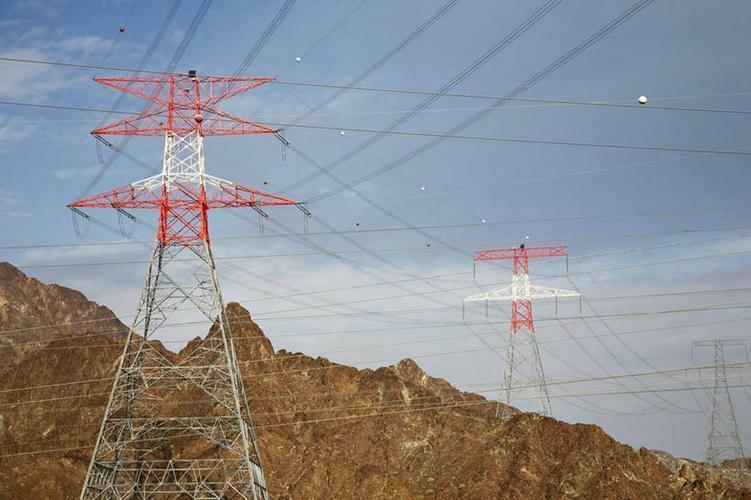power_tower: (58, 68, 299, 500), (456, 233, 574, 422), (675, 330, 751, 471)
